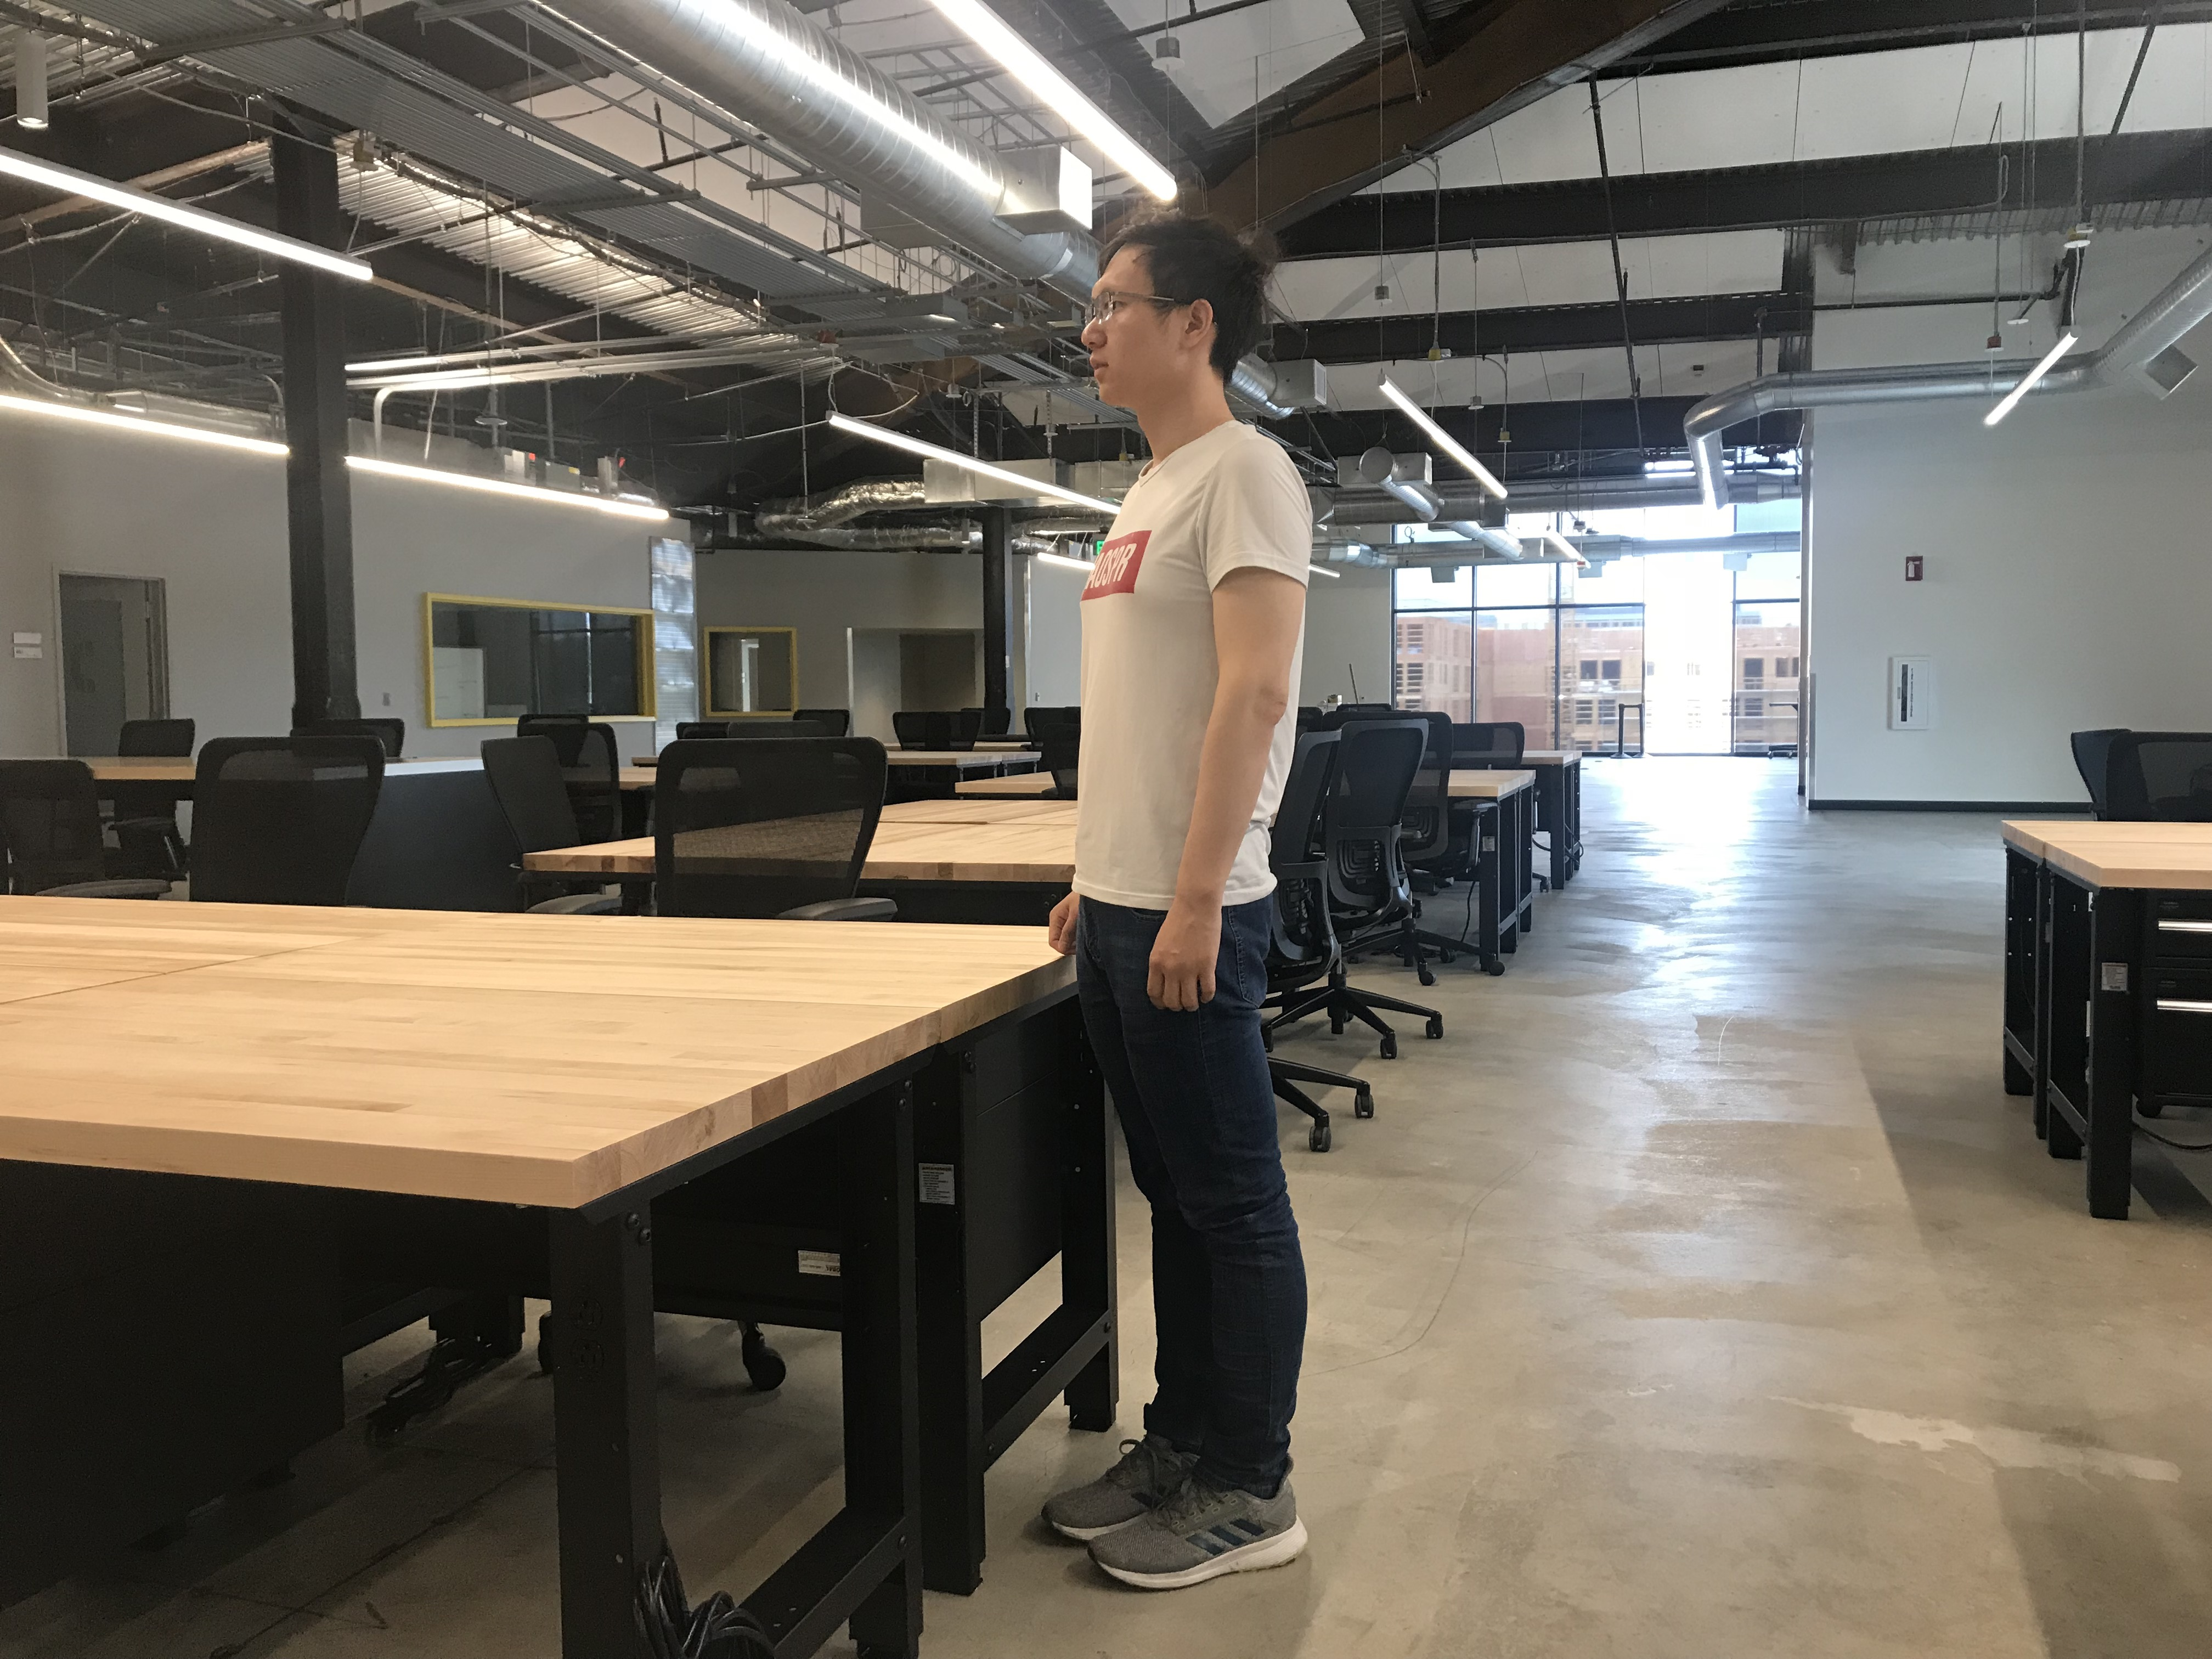attack_zone: (1101, 523, 1233, 884), (2048, 92, 2057, 101)
